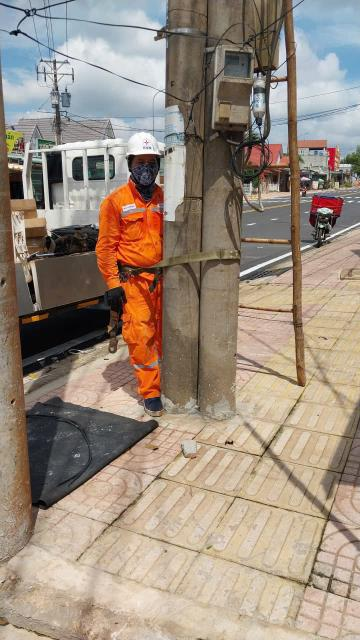gloves: (95, 286, 131, 325)
harness: (102, 248, 208, 283)
helmet: (121, 121, 167, 173)
shoes: (132, 390, 173, 419)
